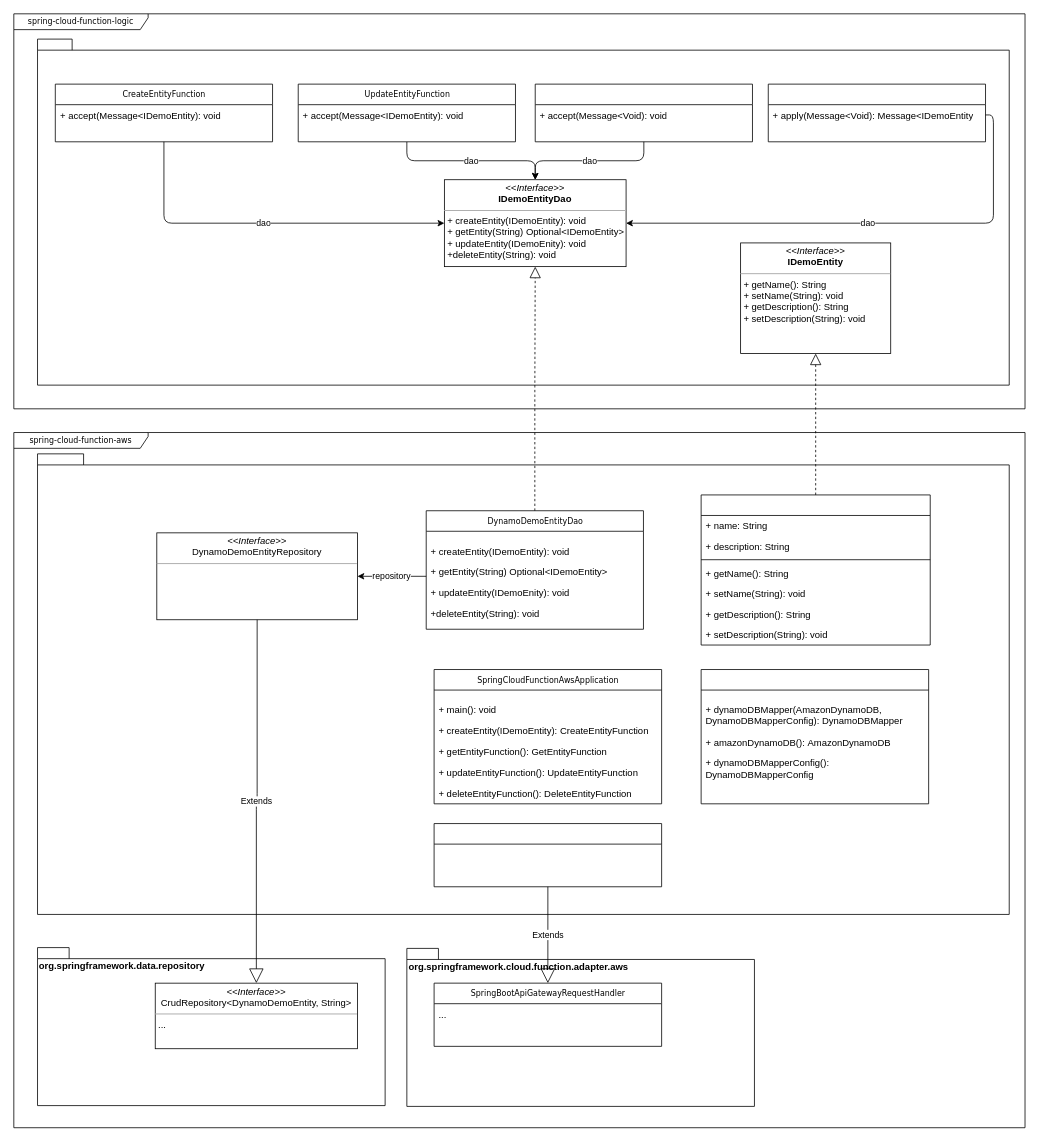
The diagram is 1039 pixels wide and 1142 high, and some of its shapes have lost their labels. Each missing label, with the box of its shape:
de.margul.awstutorials.springcloudfunction.aws: (37, 453, 1009, 914)
de.margul.awstutorials.springcloudfunction.logic: (37, 38, 1009, 385)
DeleteEntityFunction: (534, 83, 752, 142)
DemoFunctionHandler: (433, 823, 662, 887)
DynamoDbConfig: (700, 669, 929, 804)
DynamoDemoEntity: (700, 494, 930, 645)
GetEntityFunction: (767, 83, 986, 142)
